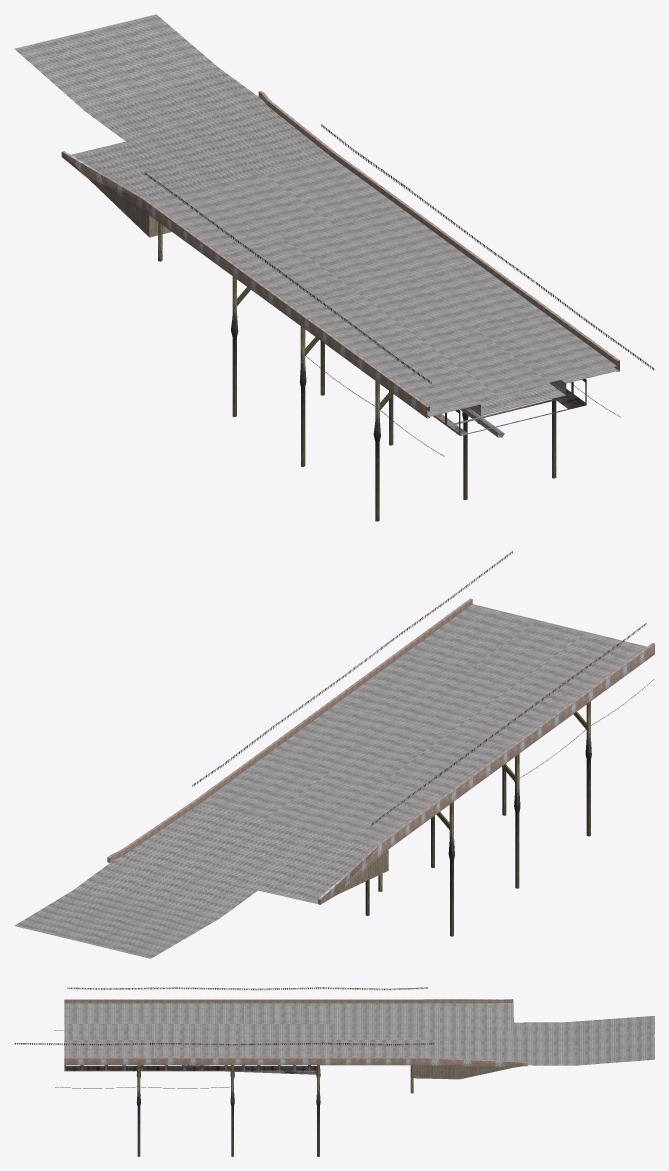
Rendered from gaz_pier2.obj.
The picture shows the model from 3 angles, top to bottom: view 1: azimuth 30°, elevation 25°; view 2: azimuth 150°, elevation 25°; view 3: azimuth 270°, elevation 25°; orthographic projection. The views are drawn at different scales.
Parts seen in each view (by area): view 1: gaz_pier2; view 2: gaz_pier2; view 3: gaz_pier2.
Part boxes in pixels (x1=…): gaz_pier2: x1=14, y1=14, x2=654, y2=521; gaz_pier2: x1=14, y1=551, x2=654, y2=958; gaz_pier2: x1=14, y1=987, x2=654, y2=1156.
Size of the model in its own units: 37.08 by 30.52 by 155.
